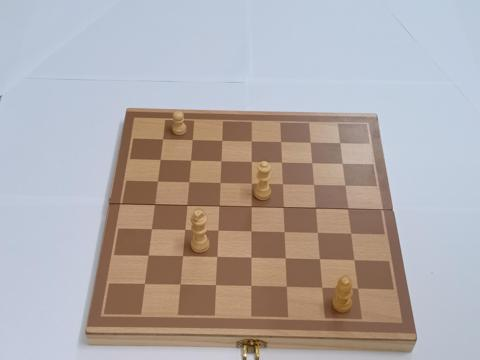xcorner: (148, 200, 158, 210), (186, 135, 196, 145), (176, 252, 186, 262), (275, 137, 285, 147), (281, 283, 291, 293), (151, 177, 161, 186), (142, 251, 151, 261), (210, 281, 219, 291), (246, 157, 255, 167), (246, 179, 255, 189), (246, 282, 255, 292), (278, 203, 287, 213), (279, 228, 288, 238), (280, 255, 290, 264), (311, 204, 320, 214), (317, 284, 327, 293), (337, 160, 347, 169), (346, 230, 356, 239), (353, 285, 363, 294), (157, 135, 166, 144), (154, 155, 163, 164), (145, 225, 154, 234), (138, 280, 147, 289), (185, 156, 194, 165), (183, 178, 192, 187), (181, 201, 190, 210), (179, 226, 188, 235), (174, 281, 183, 290), (216, 136, 225, 145), (215, 157, 224, 166), (214, 179, 223, 188), (213, 202, 222, 211), (212, 227, 221, 236), (211, 253, 220, 262), (246, 137, 255, 146), (246, 203, 255, 212), (246, 228, 255, 237), (246, 254, 255, 263), (276, 158, 285, 167), (277, 180, 286, 189), (305, 138, 314, 147), (307, 159, 316, 168), (309, 181, 318, 190), (313, 229, 322, 238), (315, 256, 324, 265), (335, 139, 344, 148), (340, 182, 349, 191), (343, 205, 352, 214), (350, 257, 359, 266)
